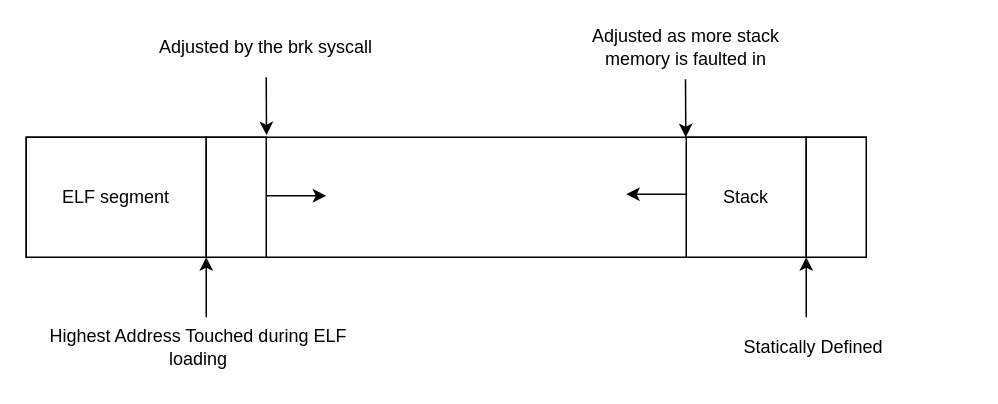
This 998x404 diagram has some shape labels left out. The box of each missing label's shape, as (x1, y1, x2, y2) in pixels:
Heap: (205, 136, 266, 257)
IPC Buffer: (805, 136, 866, 257)
